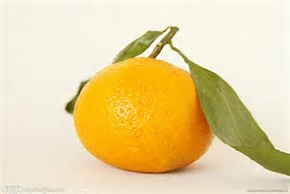orange: (66, 33, 218, 175)
